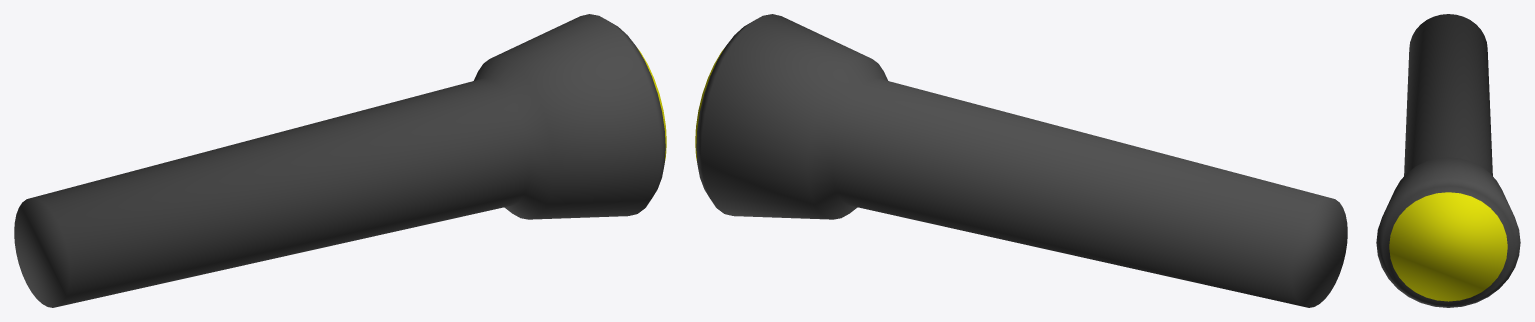
Rendered from linterna.fbx.
The picture shows the model from 3 angles, left to right: view 1: azimuth 30°, elevation 25°; view 2: azimuth 150°, elevation 25°; view 3: azimuth 270°, elevation 25°; orthographic projection. The views are drawn at different scales.
Parts seen in each view (by area): view 1: Cylinder; view 2: Cylinder; view 3: Cylinder.
Boxes of the visible parts, left/top/right/bottom form: Cylinder: left=14, top=14, right=666, bottom=307; Cylinder: left=695, top=14, right=1347, bottom=307; Cylinder: left=1376, top=14, right=1520, bottom=307.
Size of the model in its own units: 1028 by 316 by 316.
